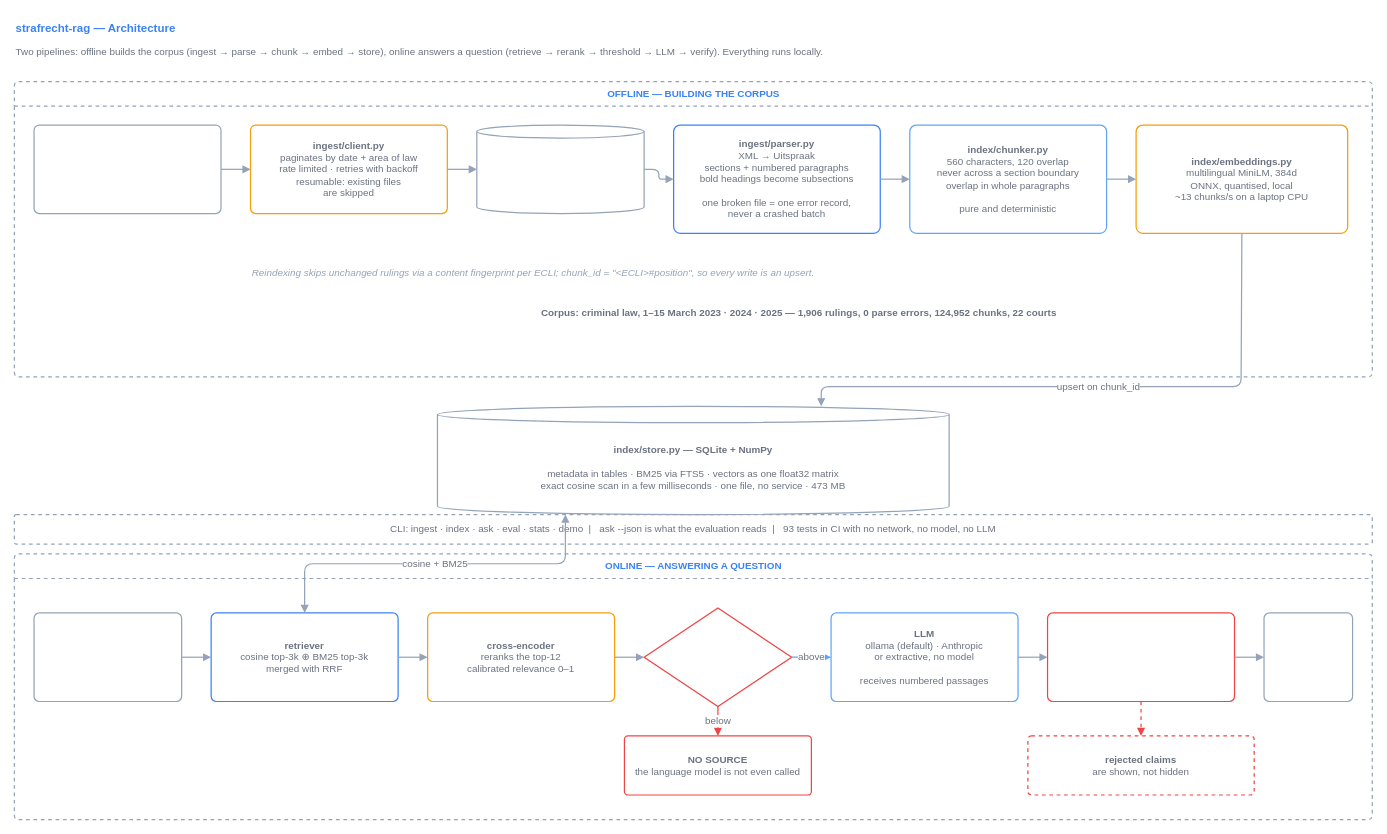
Image size: 1387x834. Some labels were removed from this diagram. The shapes that lost their labels are listed below. From the top down, each one's centre as x and y in pixels, then its label:
At (x=127, y=169): "Rechtspraak.nl Open Data search feed + content open access, no key".
At (x=560, y=169): "data/raw/<ECLI>.xml 1,906 rulings not in git".
At (x=107, y=657): "question + filters: court type, court, date range".
At (x=717, y=657): "threshold 0.35".
At (x=1141, y=657): "verify markers → supplied passages ECLI must match in code, not in the prompt".
At (x=1308, y=657): "Answer claims + citations".
